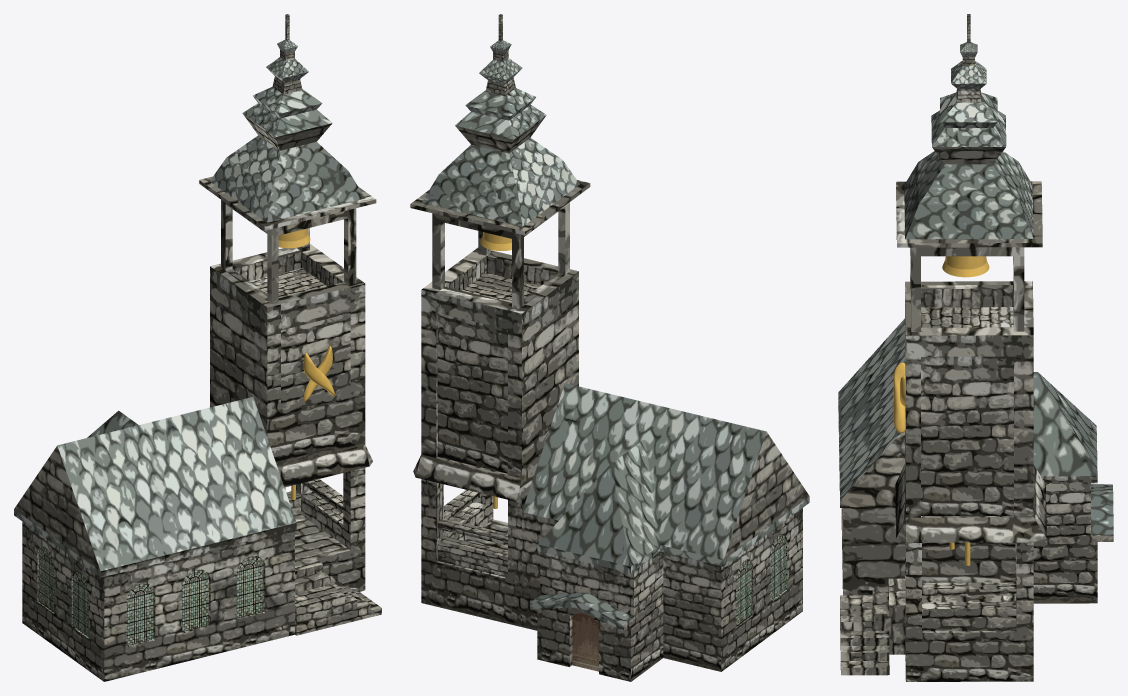
File: Igreja.fbx
3 views of the same model, side by side, from view 1: azimuth 30°, elevation 25°; view 2: azimuth 150°, elevation 25°; view 3: azimuth 270°, elevation 25° (orthographic). The views are drawn at different scales.
Parts seen in each view (by area): view 1: Igreja, Cube.001; view 2: Igreja; view 3: Igreja, Mesh1 Group1 Model, Cube.001.
Part boxes in pixels (bbox=[...]): Igreja: bbox=[14, 14, 381, 681]; Cube.001: bbox=[303, 346, 334, 401]; Igreja: bbox=[410, 14, 809, 681]; Igreja: bbox=[838, 14, 1113, 681]; Mesh1 Group1 Model: bbox=[942, 256, 989, 277]; Cube.001: bbox=[893, 362, 905, 433].
Size of the model in its own units: 612 by 1092 by 426.
